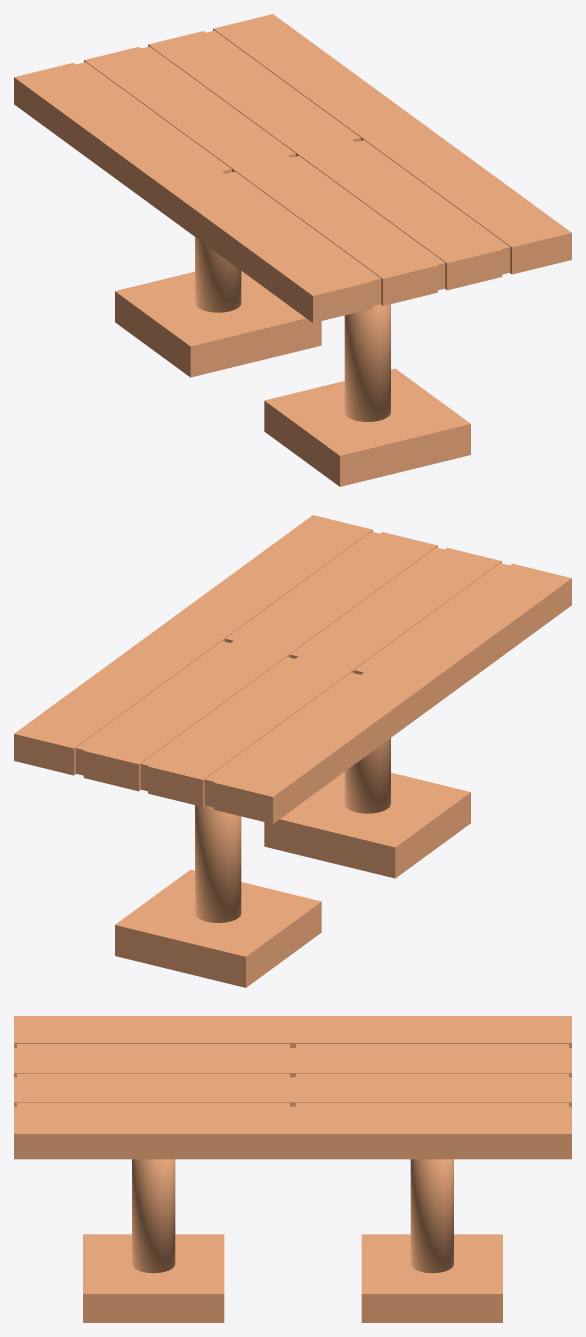
Rendered from BigTable.fbx.
The picture shows the model from 3 angles, top to bottom: view 1: azimuth 30°, elevation 25°; view 2: azimuth 150°, elevation 25°; view 3: azimuth 270°, elevation 25°; orthographic projection. The views are drawn at different scales.
Visible parts, largest first — view 1: Big Table; view 2: Big Table; view 3: Big Table.
Boxes of the visible parts, box(x1,y1,x2,y2) form: Big Table: box(14, 14, 571, 486); Big Table: box(14, 515, 571, 987); Big Table: box(14, 1016, 571, 1322).
Bounding box in the file's own units: 103 × 88.81 × 206.
